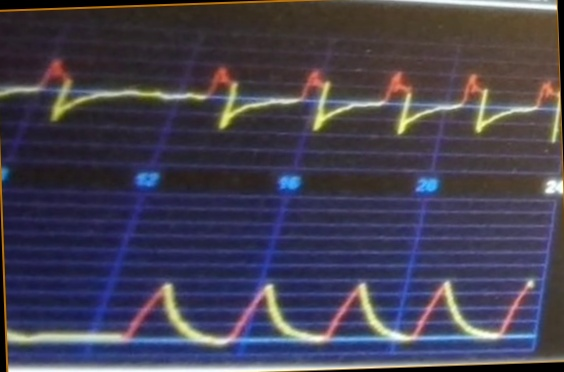Accumulation Flow: (4, 44, 561, 161)
Volume: (78, 268, 538, 356)
